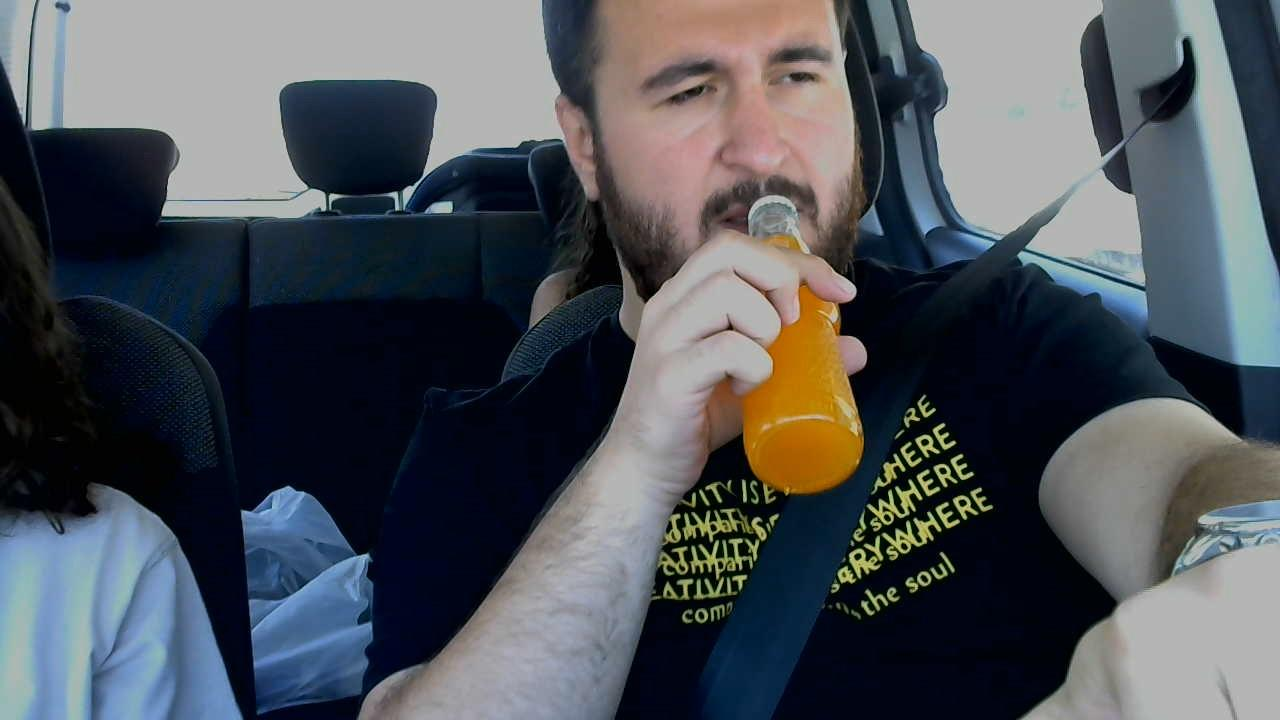Drinking: (735, 188, 868, 494)
